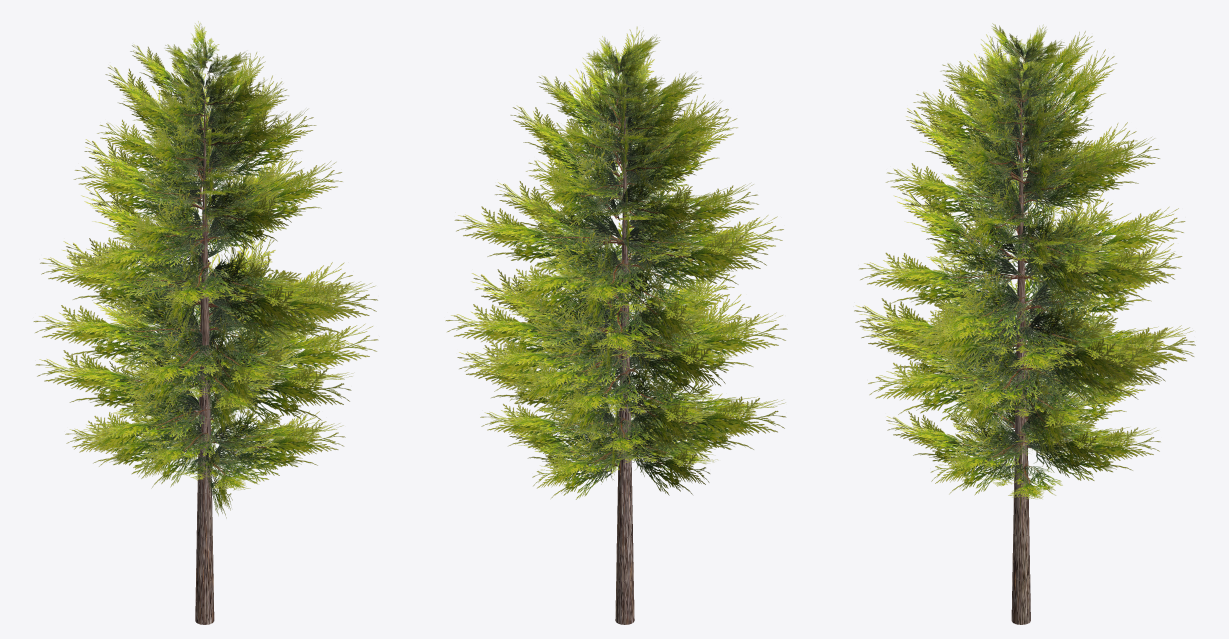
Rendered from free_tree_1.glb.
3 renders of one model, left to right at view 1: azimuth 30°, elevation 25°; view 2: azimuth 150°, elevation 25°; view 3: azimuth 270°, elevation 25°, orthographic.
Parts seen in each view (by area): view 1: Plane017, Plane042, Cylinder001, Plane039, Plane043, Plane054, Plane022, Plane053, Plane074, Plane072, Plane020, Plane050 (+39 smaller); view 2: Plane053, Plane051, Plane042, Plane048, Plane019, Cylinder001, Plane073, Plane017, Plane074, Plane016, Plane050, Plane020 (+38 smaller); view 3: Plane054, Plane048, Plane039, Cylinder001, Plane047, Plane019, Plane025, Plane072, Plane052, Plane073, Plane051, Plane055 (+42 smaller).
Boxes of the visible parts, x1,y1,x2,y2 form: Plane017: (33, 280, 201, 370); Plane042: (73, 378, 210, 469); Cylinder001: (195, 100, 214, 624); Plane039: (209, 331, 353, 426); Plane043: (211, 402, 345, 475); Plane054: (198, 244, 319, 339); Plane022: (208, 255, 366, 343); Plane053: (71, 203, 212, 293); Plane074: (35, 330, 199, 419); Plane072: (216, 313, 378, 398); Plane020: (40, 241, 206, 317); Plane050: (124, 312, 223, 413); Plane053: (617, 204, 767, 291); Plane051: (454, 199, 621, 274); Plane042: (629, 368, 786, 459); Plane048: (445, 288, 618, 368); Plane019: (495, 228, 630, 321); Cylinder001: (615, 112, 634, 624); Plane073: (463, 305, 621, 399); Plane017: (610, 299, 736, 399); Plane074: (597, 354, 717, 456); Plane016: (509, 319, 632, 417); Plane050: (618, 294, 787, 383); Plane020: (603, 255, 715, 353); Plane054: (858, 227, 1027, 315); Plane048: (1013, 293, 1142, 394); Plane039: (868, 328, 1025, 421); Cylinder001: (1011, 93, 1030, 624); Plane047: (912, 271, 1036, 371); Plane019: (1024, 216, 1176, 308); Plane025: (885, 161, 1023, 226); Plane072: (948, 335, 1043, 439); Plane052: (1022, 200, 1185, 285); Plane073: (1026, 306, 1169, 404); Plane051: (1000, 206, 1116, 307); Plane055: (1023, 137, 1159, 204).
Bounding box in the file's own units: 479 × 822 × 471.
Materials: 2 (2 with a texture image).
